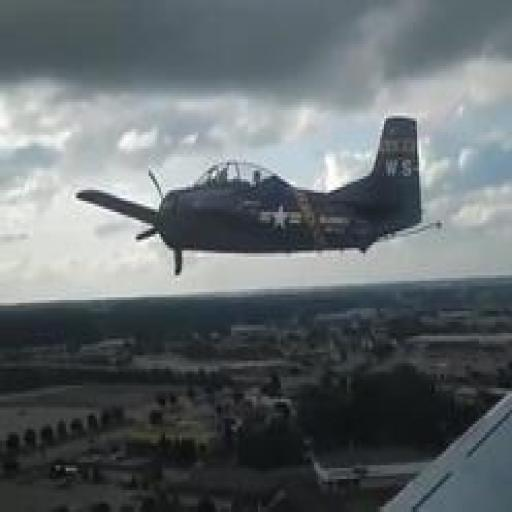aircraft: (78, 118, 424, 278)
